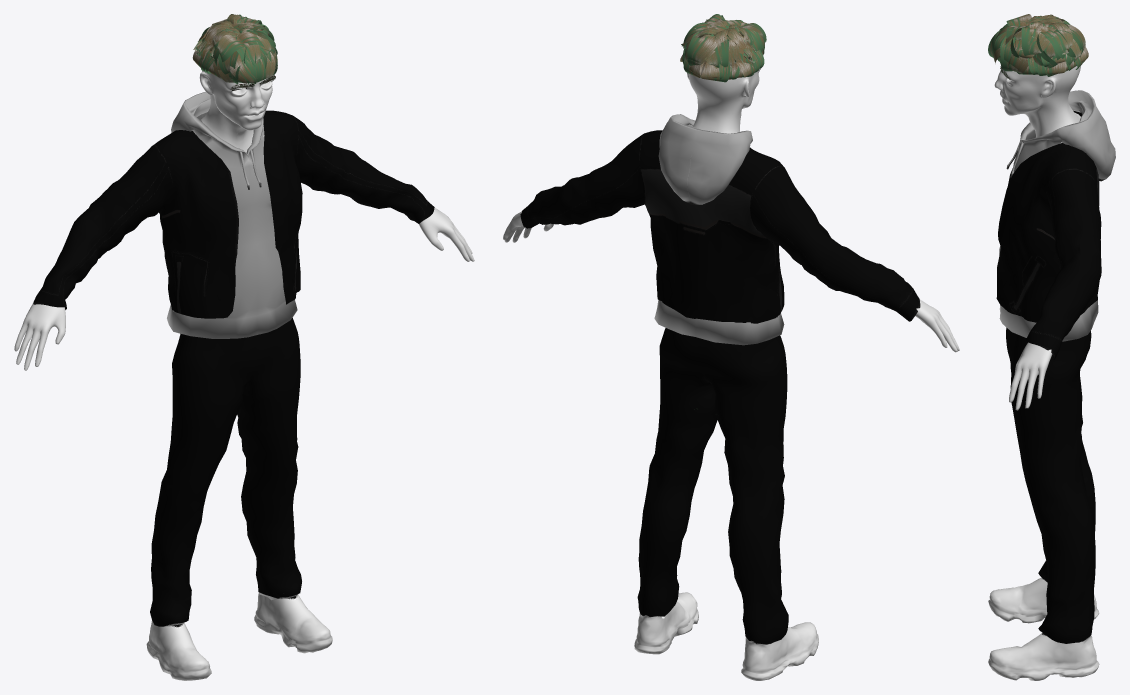
The model's file is urban_guy_unity 3.fbx.
3 views of the same model, side by side, from view 1: azimuth 30°, elevation 25°; view 2: azimuth 150°, elevation 25°; view 3: azimuth 270°, elevation 25° (orthographic).
Parts seen in each view (by area): view 1: clothes_LOD0, body_LOD0, hair_LOD0; view 2: clothes_LOD0, hair_LOD0, body_LOD0; view 3: clothes_LOD0, body_LOD0, hair_LOD0.
Part boxes in pixels (left/top/right/bottom): clothes_LOD0: left=33, top=91, right=434, bottom=680; body_LOD0: left=14, top=35, right=474, bottom=370; hair_LOD0: left=192, top=14, right=277, bottom=84; clothes_LOD0: left=520, top=114, right=920, bottom=680; hair_LOD0: left=680, top=14, right=766, bottom=82; body_LOD0: left=503, top=68, right=959, bottom=352; clothes_LOD0: left=988, top=90, right=1115, bottom=680; body_LOD0: left=994, top=66, right=1080, bottom=410; hair_LOD0: left=988, top=14, right=1088, bottom=76.
Size of what is drawn, in the model's own units: 171 by 225 by 41.65.
